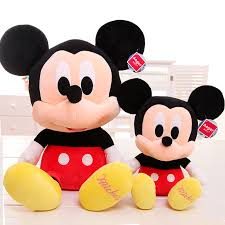Mickey: (1, 18, 146, 133), (117, 73, 225, 164)
